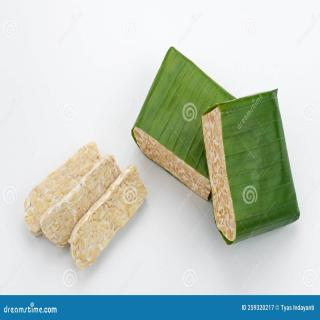Tempe: (132, 46, 301, 246), (132, 46, 239, 203), (201, 88, 301, 246), (70, 164, 149, 271), (40, 154, 123, 248), (202, 106, 238, 243)
